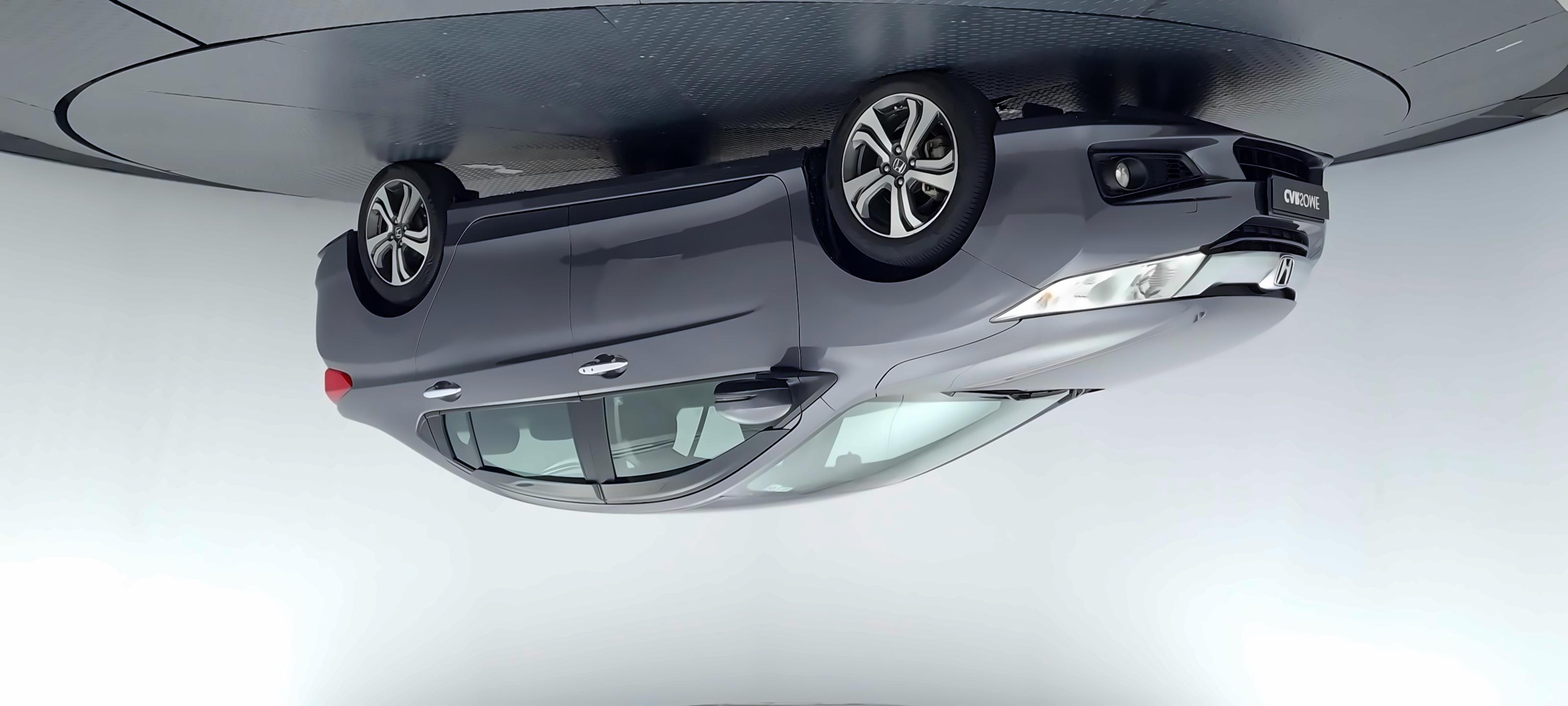Car hood: (871, 289, 1306, 405)
Fender - -F-L-: (783, 152, 1036, 417)
Fender - -R-L-: (351, 190, 469, 399)
Front bumper: (964, 106, 1346, 301)
Headlight - -L-: (983, 239, 1217, 331)
Passenger-s door - -F-L-: (570, 170, 804, 507)
Passenger-s door - -R-L-: (409, 198, 583, 507)
Rear bumper: (263, 219, 369, 341)
Rear light - -L-: (311, 359, 364, 415)
Side bumper - -L-: (436, 144, 822, 236)
Side mirror - -L-: (706, 356, 808, 432)
